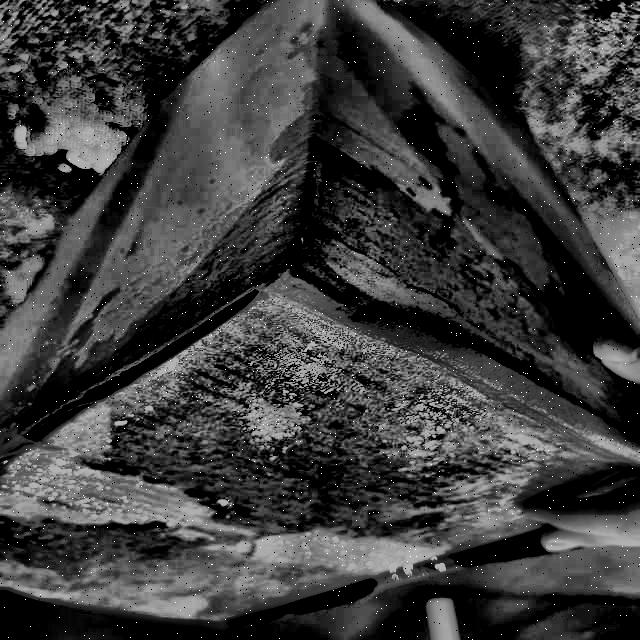box: (1, 1, 640, 636)
wet: (0, 140, 570, 626)
